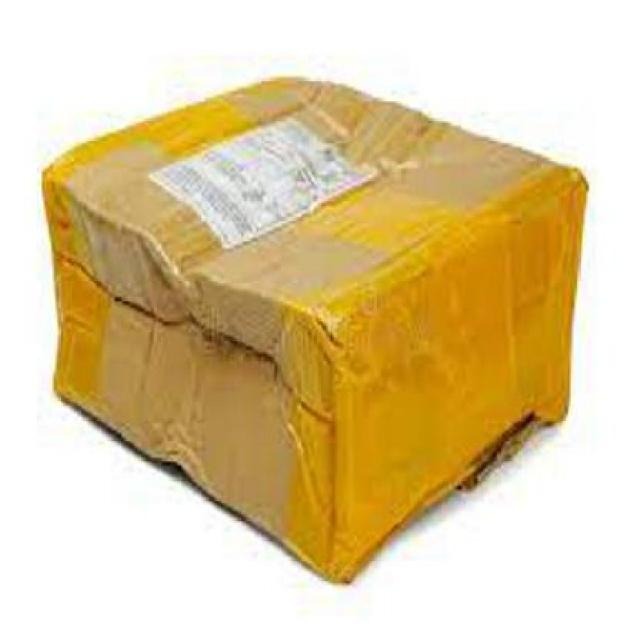defect: (43, 77, 583, 588)
